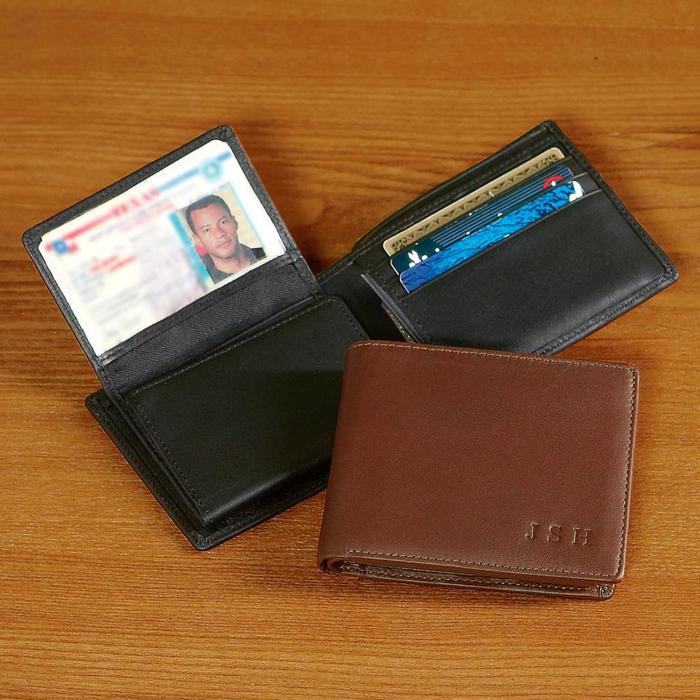monedero: (20, 114, 683, 552), (313, 337, 643, 605)
